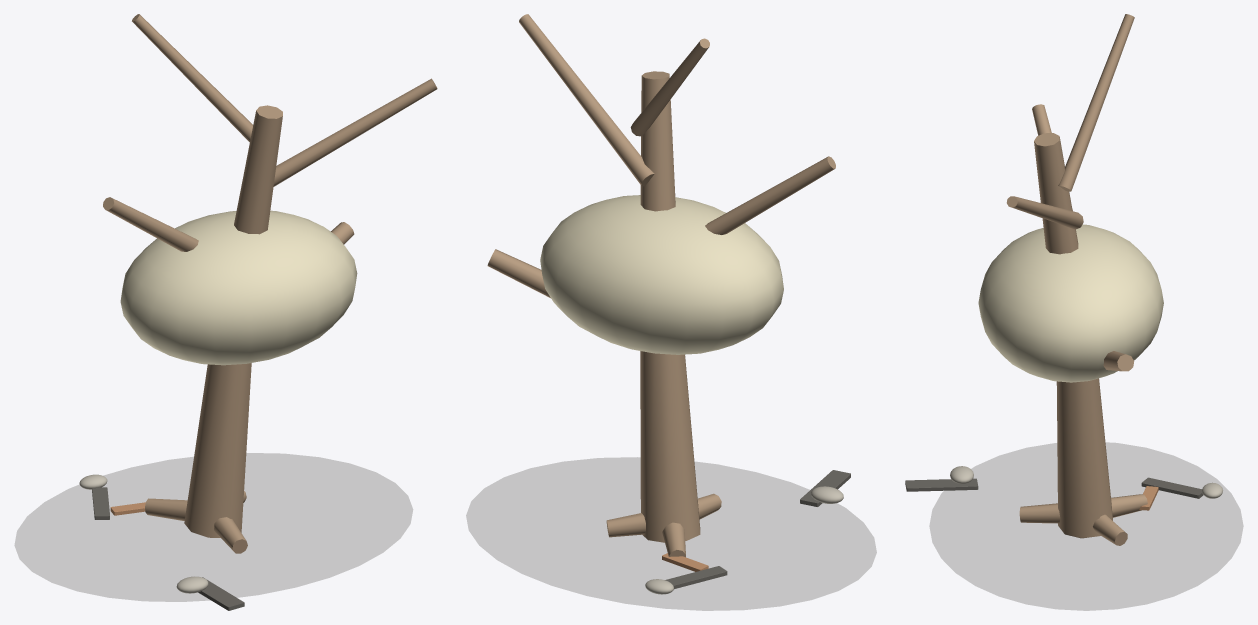
The model's file is dead_tree_c.glb.
3 views of the same model, side by side, from view 1: azimuth 30°, elevation 25°; view 2: azimuth 150°, elevation 25°; view 3: azimuth 270°, elevation 25° (orthographic). The views are drawn at different scales.
Parts seen in each view (by area): view 1: painted_contact_shadow, pale_broken_knot, twisted_main_trunk_lower, twisted_main_trunk_upper, bleached_branch_2, bleached_branch_3, bleached_branch_1, surface_root_0, surface_root_2, loose_scrap_flake_3; view 2: painted_contact_shadow, pale_broken_knot, twisted_main_trunk_lower, twisted_main_trunk_upper, bleached_branch_2, bleached_branch_1, bleached_branch_3, bleached_branch_0, surface_root_1, surface_root_0, loose_scrap_flake_1, loose_scrap_flake_3; view 3: painted_contact_shadow, pale_broken_knot, twisted_main_trunk_lower, twisted_main_trunk_upper, bleached_branch_3, bleached_branch_2, loose_scrap_flake_3, surface_root_2, surface_root_1, surface_root_0, loose_scrap_flake_1, bleached_branch_0.
Part boxes in pixels (x1=…): painted_contact_shadow: x1=15, y1=453, x2=412, y2=601; pale_broken_knot: x1=120, y1=210, x2=357, y2=365; twisted_main_trunk_lower: x1=184, y1=363, x2=251, y2=537; twisted_main_trunk_upper: x1=234, y1=105, x2=282, y2=234; bleached_branch_2: x1=273, y1=78, x2=437, y2=186; bleached_branch_3: x1=132, y1=14, x2=253, y2=142; bleached_branch_1: x1=103, y1=197, x2=198, y2=251; surface_root_0: x1=145, y1=498, x2=187, y2=520; surface_root_2: x1=214, y1=517, x2=247, y2=553; loose_scrap_flake_3: x1=198, y1=577, x2=244, y2=610; painted_contact_shadow: x1=466, y1=457, x2=876, y2=610; pale_broken_knot: x1=540, y1=195, x2=783, y2=354; twisted_main_trunk_lower: x1=640, y1=351, x2=700, y2=542; twisted_main_trunk_upper: x1=640, y1=71, x2=675, y2=211; bleached_branch_2: x1=519, y1=14, x2=654, y2=186; bleached_branch_1: x1=705, y1=156, x2=835, y2=234; bleached_branch_3: x1=630, y1=38, x2=709, y2=136; bleached_branch_0: x1=487, y1=249, x2=550, y2=298; surface_root_1: x1=606, y1=513, x2=645, y2=537; surface_root_0: x1=662, y1=522, x2=685, y2=557; loose_scrap_flake_1: x1=665, y1=566, x2=727, y2=589; loose_scrap_flake_3: x1=800, y1=470, x2=850, y2=506; painted_contact_shadow: x1=929, y1=442, x2=1243, y2=610; pale_broken_knot: x1=978, y1=224, x2=1163, y2=382; twisted_main_trunk_lower: x1=1056, y1=378, x2=1112, y2=538; twisted_main_trunk_upper: x1=1034, y1=133, x2=1078, y2=254; bleached_branch_3: x1=1058, y1=14, x2=1134, y2=191; bleached_branch_2: x1=1006, y1=196, x2=1083, y2=229; loose_scrap_flake_3: x1=905, y1=478, x2=978, y2=491; surface_root_2: x1=1019, y1=503, x2=1060, y2=523; surface_root_1: x1=1093, y1=514, x2=1127, y2=545; surface_root_0: x1=1111, y1=494, x2=1147, y2=517; loose_scrap_flake_1: x1=1141, y1=477, x2=1203, y2=498; bleached_branch_0: x1=1103, y1=351, x2=1134, y2=371.
Size of the model in its own units: 1.86 by 2.47 by 1.55.
